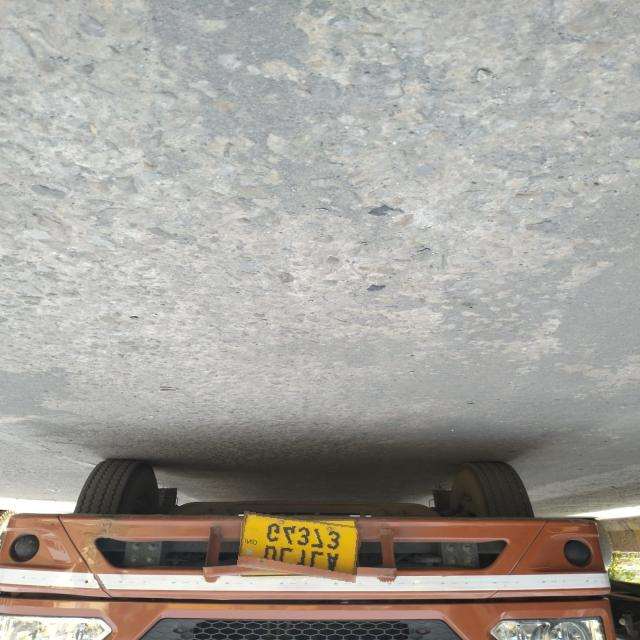License-plate: (239, 515, 361, 579)
